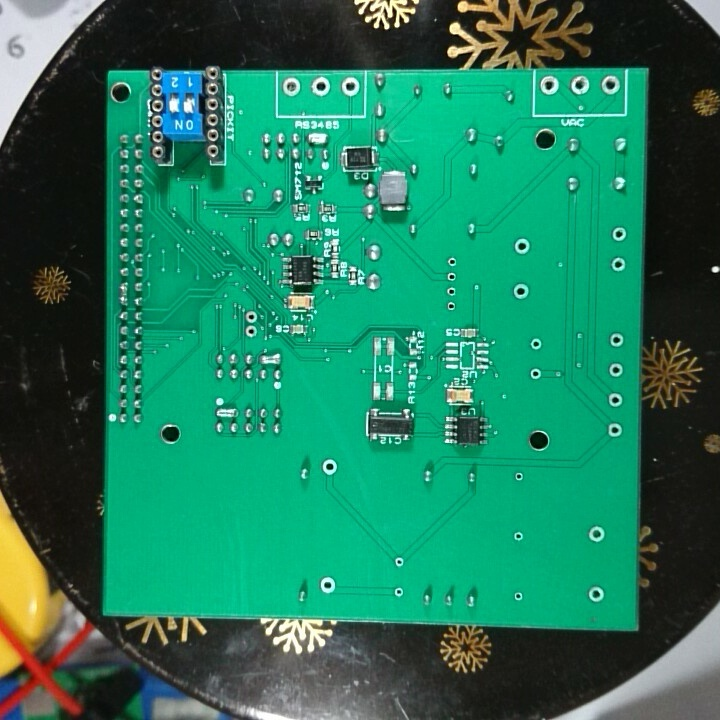F: (600, 72, 623, 98), (310, 74, 332, 101), (569, 72, 592, 95), (281, 75, 303, 99), (539, 74, 561, 97), (340, 75, 362, 98), (511, 280, 532, 303), (512, 234, 533, 257), (585, 584, 606, 606), (319, 455, 340, 477), (610, 223, 630, 246), (586, 523, 606, 546), (318, 572, 338, 595), (607, 359, 627, 379), (605, 419, 624, 440), (240, 324, 263, 341), (609, 254, 627, 275), (606, 389, 623, 410), (527, 366, 545, 384), (445, 252, 463, 270), (528, 336, 545, 355), (608, 330, 624, 350), (242, 308, 262, 324), (511, 468, 527, 487), (389, 554, 406, 570), (511, 528, 527, 544), (445, 281, 460, 298), (445, 268, 461, 283), (392, 584, 406, 600), (444, 297, 453, 315), (512, 590, 524, 602)
P: (212, 405, 241, 420), (257, 351, 284, 367), (304, 129, 330, 145), (117, 280, 132, 307)
